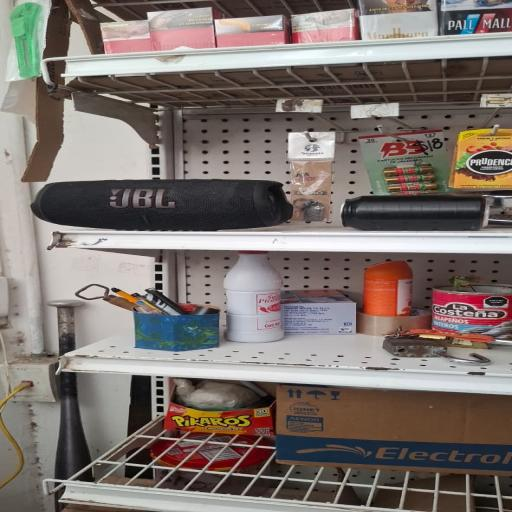LATA: (338, 192, 497, 234)
